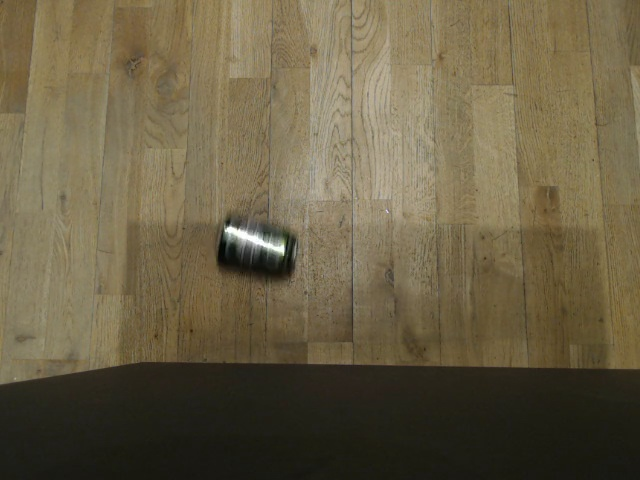beer: (212, 213, 302, 289)
